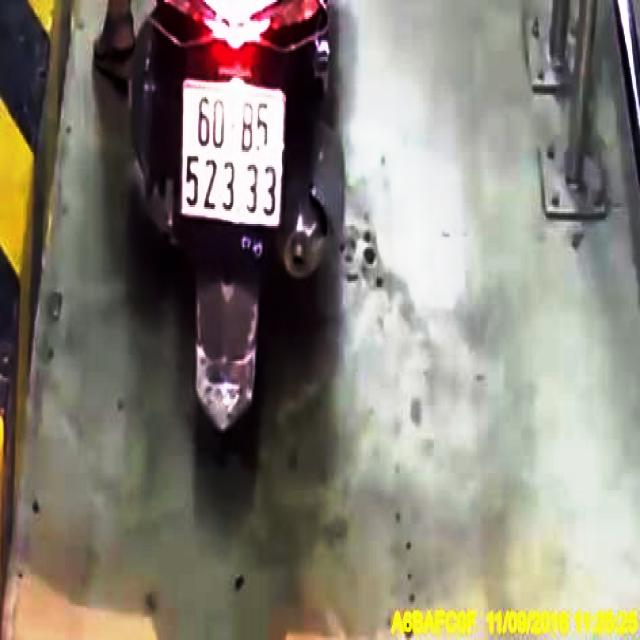license_plate: (184, 82, 286, 229)
